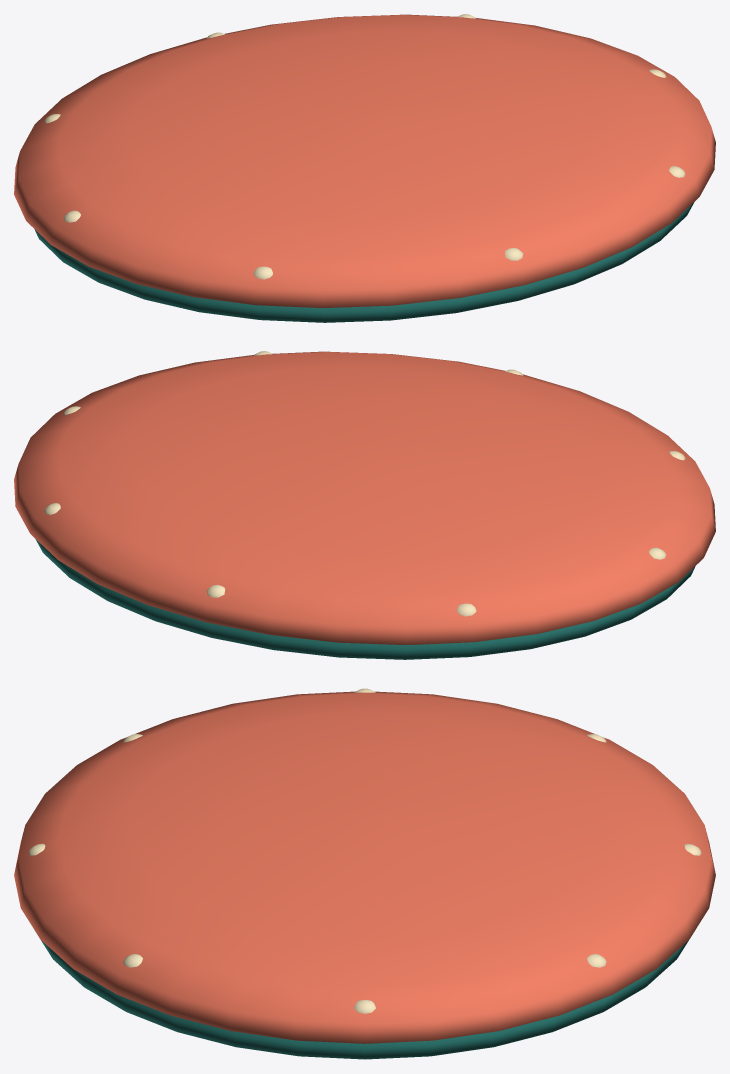
Rendered from GrowerCap.fbx.
3 views of the same model, one above another, from view 1: azimuth 30°, elevation 25°; view 2: azimuth 150°, elevation 25°; view 3: azimuth 270°, elevation 25° (orthographic). The views are drawn at different scales.
Visible parts, largest first — view 1: GrowerCap_Visual; view 2: GrowerCap_Visual; view 3: GrowerCap_Visual.
Part boxes in pixels (box(x1,y1,x2,y2)): GrowerCap_Visual: box(14, 14, 715, 322); GrowerCap_Visual: box(14, 351, 715, 659); GrowerCap_Visual: box(14, 688, 715, 1059).
Bounding box in the file's own units: 1.22 × 0.155 × 1.07.
